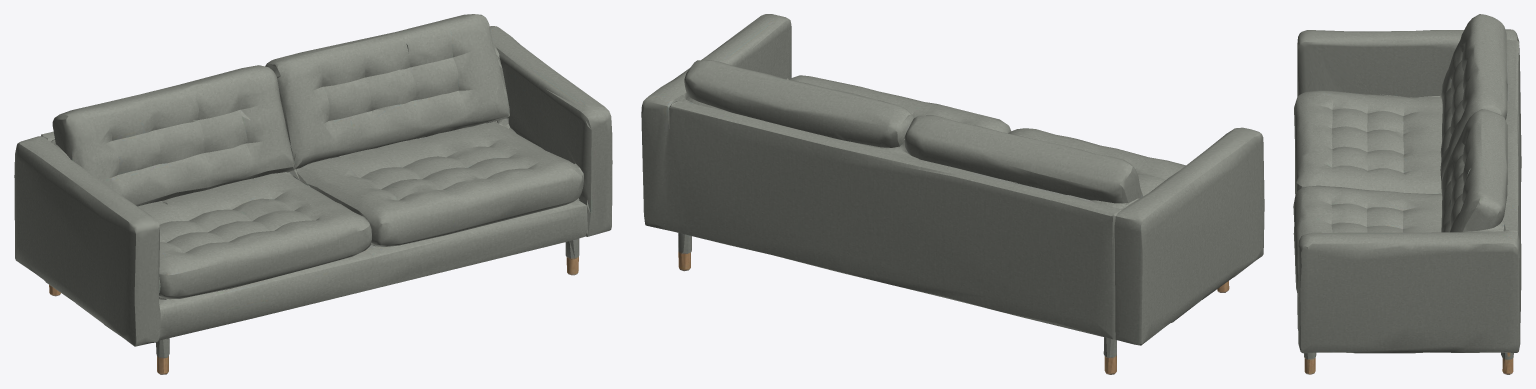
3 renders of one model, left to right at view 1: azimuth 30°, elevation 25°; view 2: azimuth 150°, elevation 25°; view 3: azimuth 270°, elevation 25°, orthographic. The views are drawn at different scales.
Parts seen in each view (by area): view 1: ProcessedMeshNode; view 2: ProcessedMeshNode; view 3: ProcessedMeshNode.
Boxes of the visible parts, x1,y1,x2,y2 form: ProcessedMeshNode: [14, 14, 612, 374]; ProcessedMeshNode: [641, 14, 1264, 374]; ProcessedMeshNode: [1293, 14, 1521, 374].
Size of the model in its own units: 2.05 by 0.7766 by 0.9084.
Materials: 1 (1 with a texture image).
